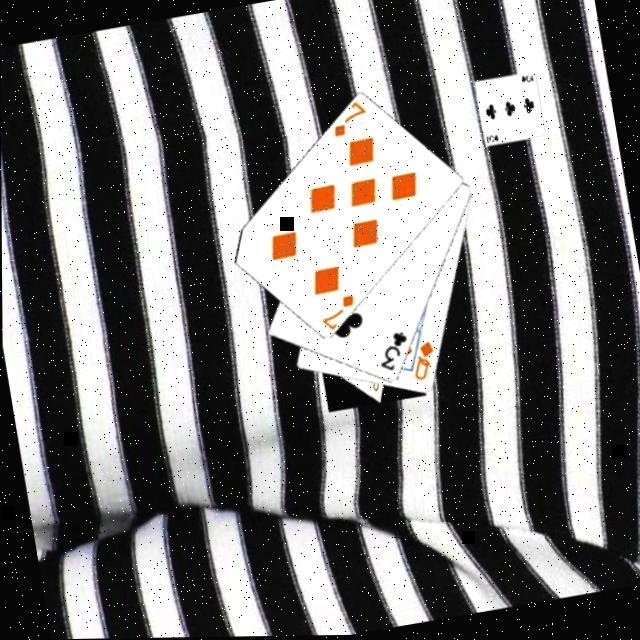3C: (374, 326, 416, 375)
7D: (328, 97, 373, 140), (316, 290, 362, 332)
QD: (407, 336, 442, 384)
